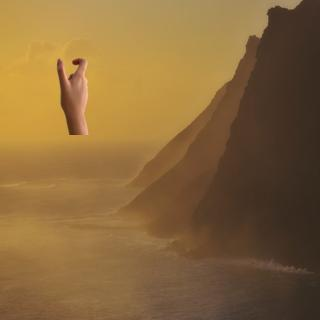Irritated: (55, 51, 96, 125)
